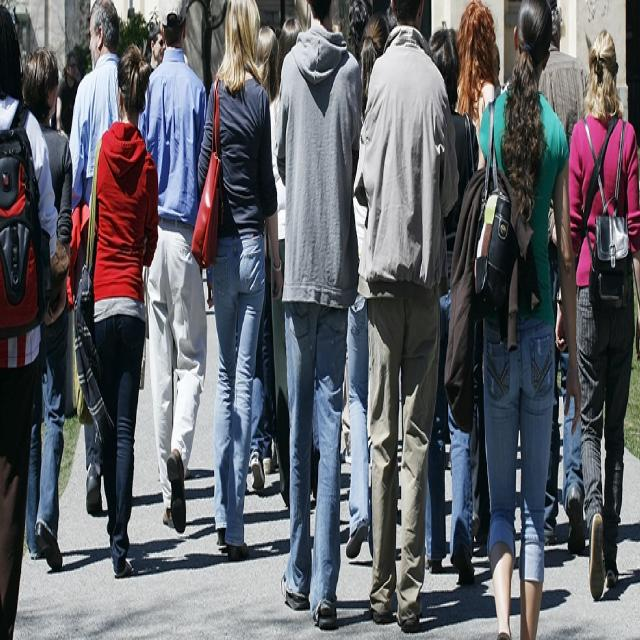body: (350, 0, 463, 639), (472, 0, 584, 637), (189, 0, 286, 568), (551, 21, 639, 607), (70, 37, 160, 582), (62, 0, 144, 520), (133, 0, 212, 539), (0, 1, 63, 640), (240, 0, 312, 521), (533, 1, 592, 560), (423, 25, 481, 587), (332, 0, 391, 474), (23, 38, 73, 570), (270, 12, 321, 517), (344, 8, 389, 566), (172, 0, 229, 317), (452, 0, 512, 177), (55, 51, 81, 141), (142, 14, 168, 79), (73, 59, 84, 83)
